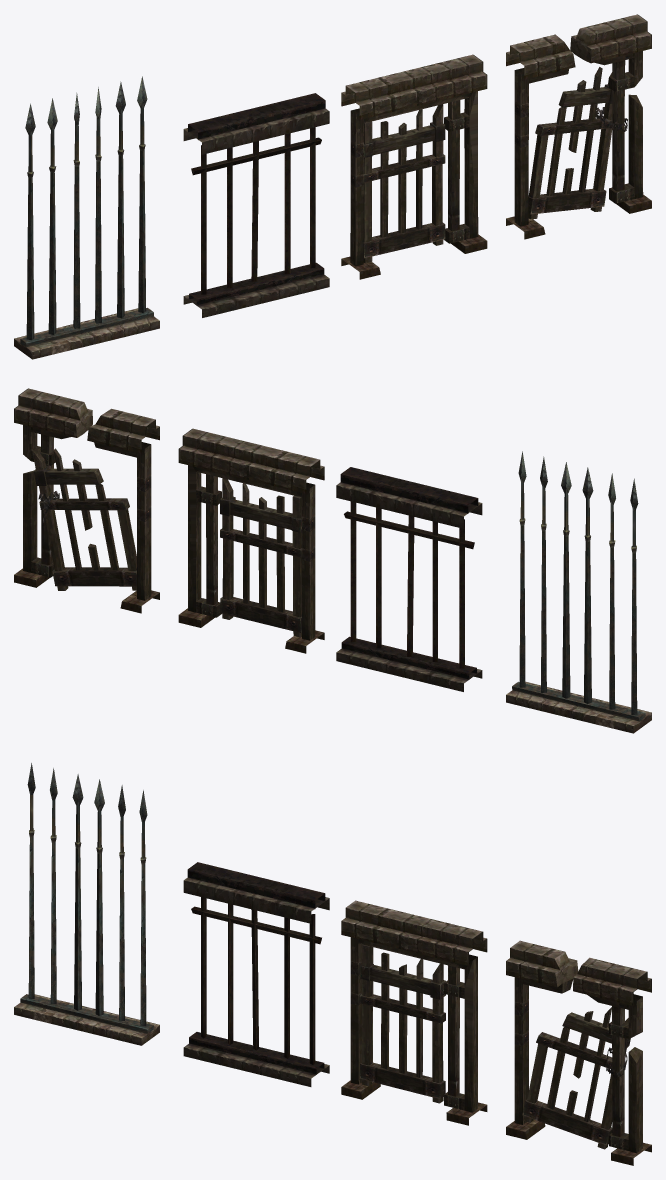
The model's file is 2_DXSD_LaoYuJianQiang_01.FBX.
The picture shows the model from 3 angles, top to bottom: view 1: azimuth 30°, elevation 25°; view 2: azimuth 150°, elevation 25°; view 3: azimuth 330°, elevation 25°; orthographic projection.
Visible parts, largest first — view 1: 2_DXSD_LaoYuJianQiang_03, 2_DXSD_LaoYuJianQiang_04, 2_DXSD_LaoYuJianQiang_01, 2_DXSD_LaoYuJianQiang_02; view 2: 2_DXSD_LaoYuJianQiang_03, 2_DXSD_LaoYuJianQiang_04, 2_DXSD_LaoYuJianQiang_01, 2_DXSD_LaoYuJianQiang_02; view 3: 2_DXSD_LaoYuJianQiang_03, 2_DXSD_LaoYuJianQiang_04, 2_DXSD_LaoYuJianQiang_01, 2_DXSD_LaoYuJianQiang_02.
Boxes of the visible parts, bbox=[...] form: 2_DXSD_LaoYuJianQiang_03: bbox=[341, 54, 487, 279]; 2_DXSD_LaoYuJianQiang_04: bbox=[506, 14, 651, 239]; 2_DXSD_LaoYuJianQiang_01: bbox=[183, 93, 329, 317]; 2_DXSD_LaoYuJianQiang_02: bbox=[14, 76, 159, 359]; 2_DXSD_LaoYuJianQiang_03: bbox=[178, 428, 324, 653]; 2_DXSD_LaoYuJianQiang_04: bbox=[14, 388, 159, 613]; 2_DXSD_LaoYuJianQiang_01: bbox=[336, 467, 482, 691]; 2_DXSD_LaoYuJianQiang_02: bbox=[506, 451, 651, 733]; 2_DXSD_LaoYuJianQiang_03: bbox=[341, 900, 487, 1125]; 2_DXSD_LaoYuJianQiang_04: bbox=[506, 940, 651, 1165]; 2_DXSD_LaoYuJianQiang_01: bbox=[183, 862, 329, 1086]; 2_DXSD_LaoYuJianQiang_02: bbox=[14, 763, 159, 1045].
Size of the model in its own units: 1359 by 522 by 78.85.
